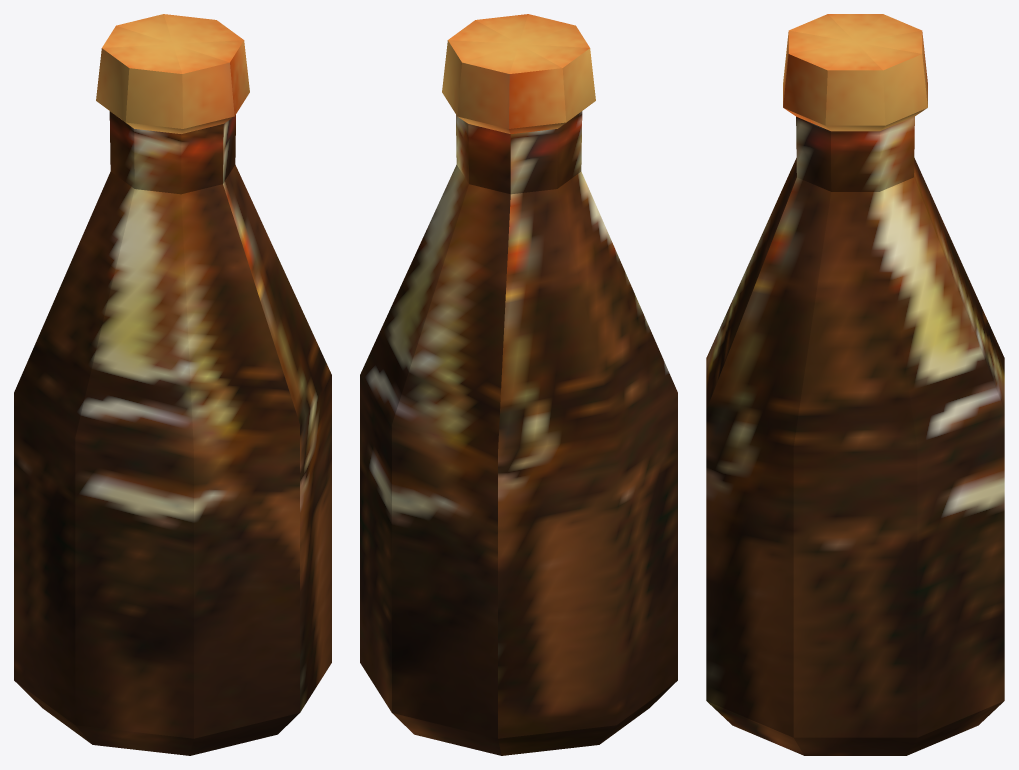
The model's file is bottle.fbx.
3 renders of one model, left to right at view 1: azimuth 30°, elevation 25°; view 2: azimuth 150°, elevation 25°; view 3: azimuth 270°, elevation 25°, orthographic.
Parts seen in each view (by area): view 1: bottle; view 2: bottle; view 3: bottle.
Part boxes in pixels (bbox=[...]): bottle: bbox=[14, 14, 331, 755]; bottle: bbox=[360, 14, 677, 755]; bottle: bbox=[706, 14, 1004, 755].
Size of the model in its own units: 17.01 by 41.61 by 17.01.
